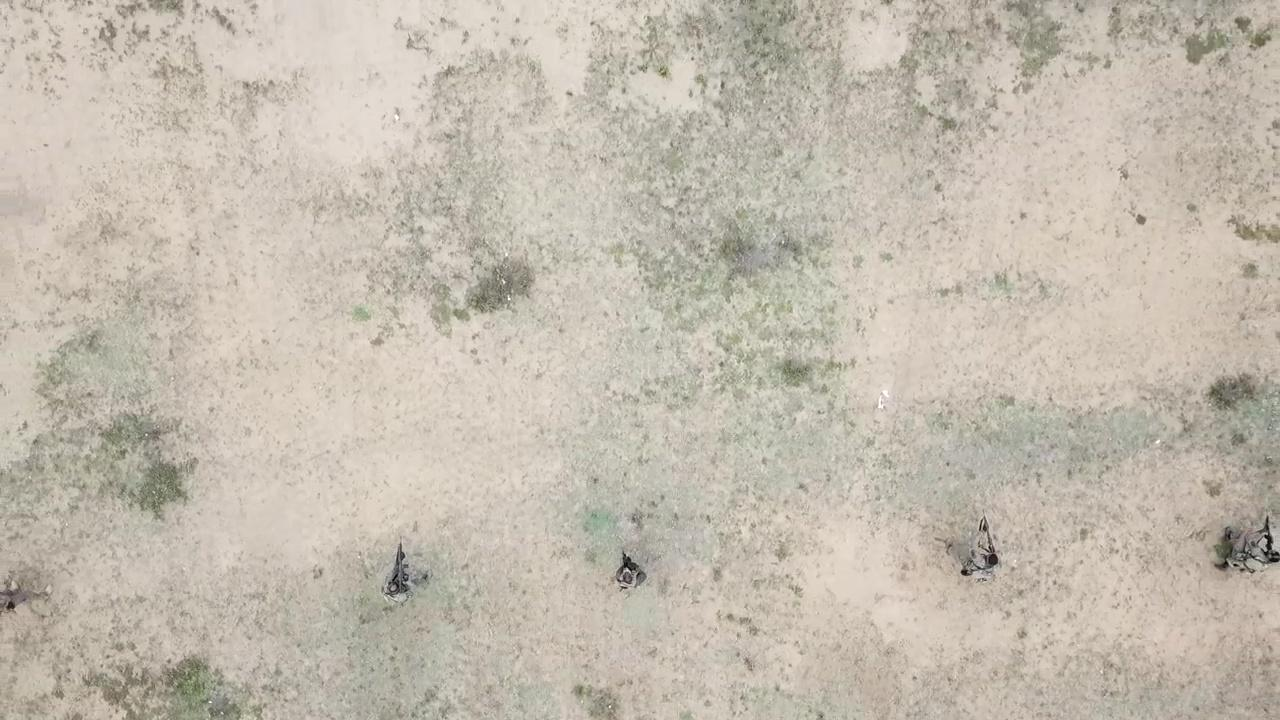Soldier: (933, 496, 1009, 587), (379, 530, 435, 616), (610, 539, 659, 595)
